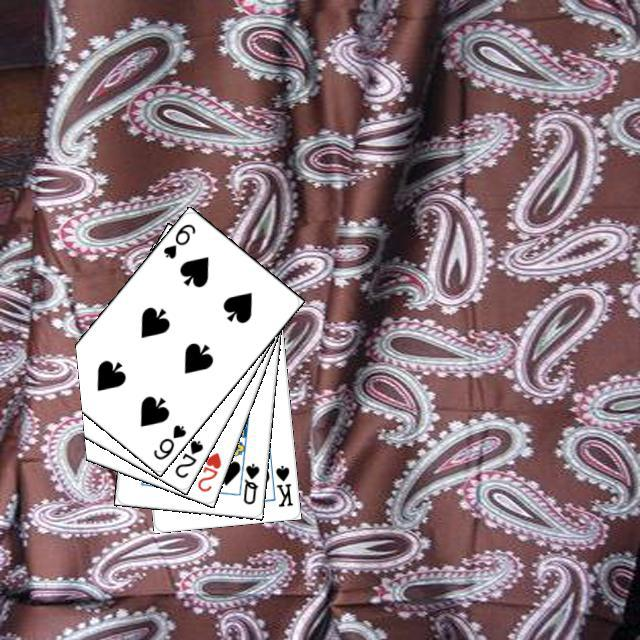2h: (192, 447, 223, 494)
2s: (170, 435, 205, 480)
6s: (158, 218, 198, 261), (148, 419, 188, 461)
Ks: (271, 460, 294, 509)
Qs: (238, 459, 261, 506)
